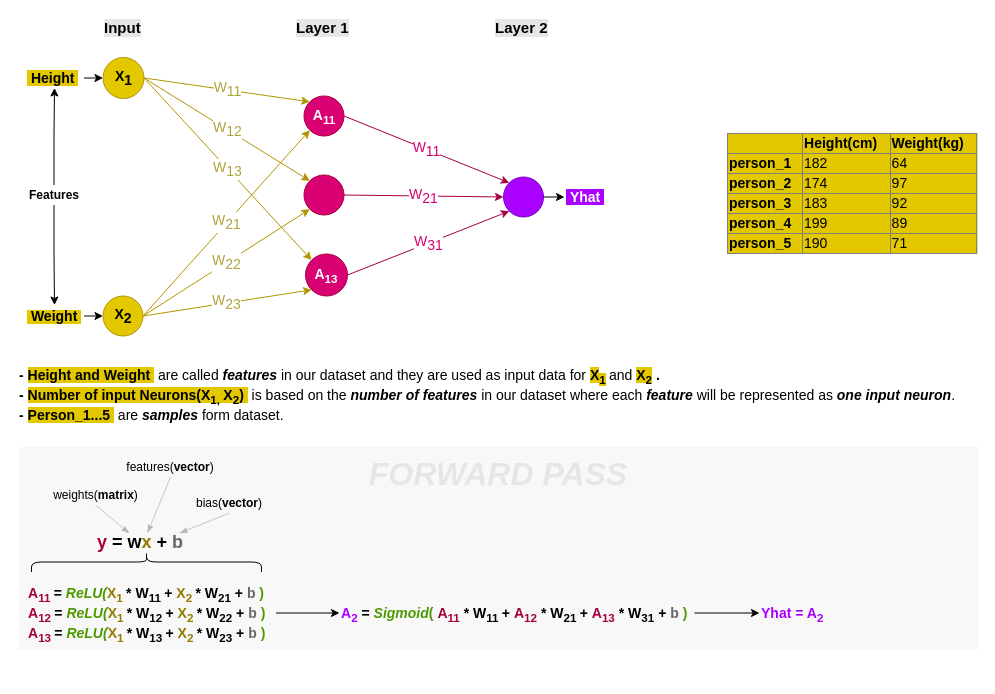
Some shapes in this 995 by 694 pixel diagram are drawn without their labels. Each missing label, with the centre of its shape:
"A 12" belongs at [323,194].
"A 2" belongs at [523,196].
